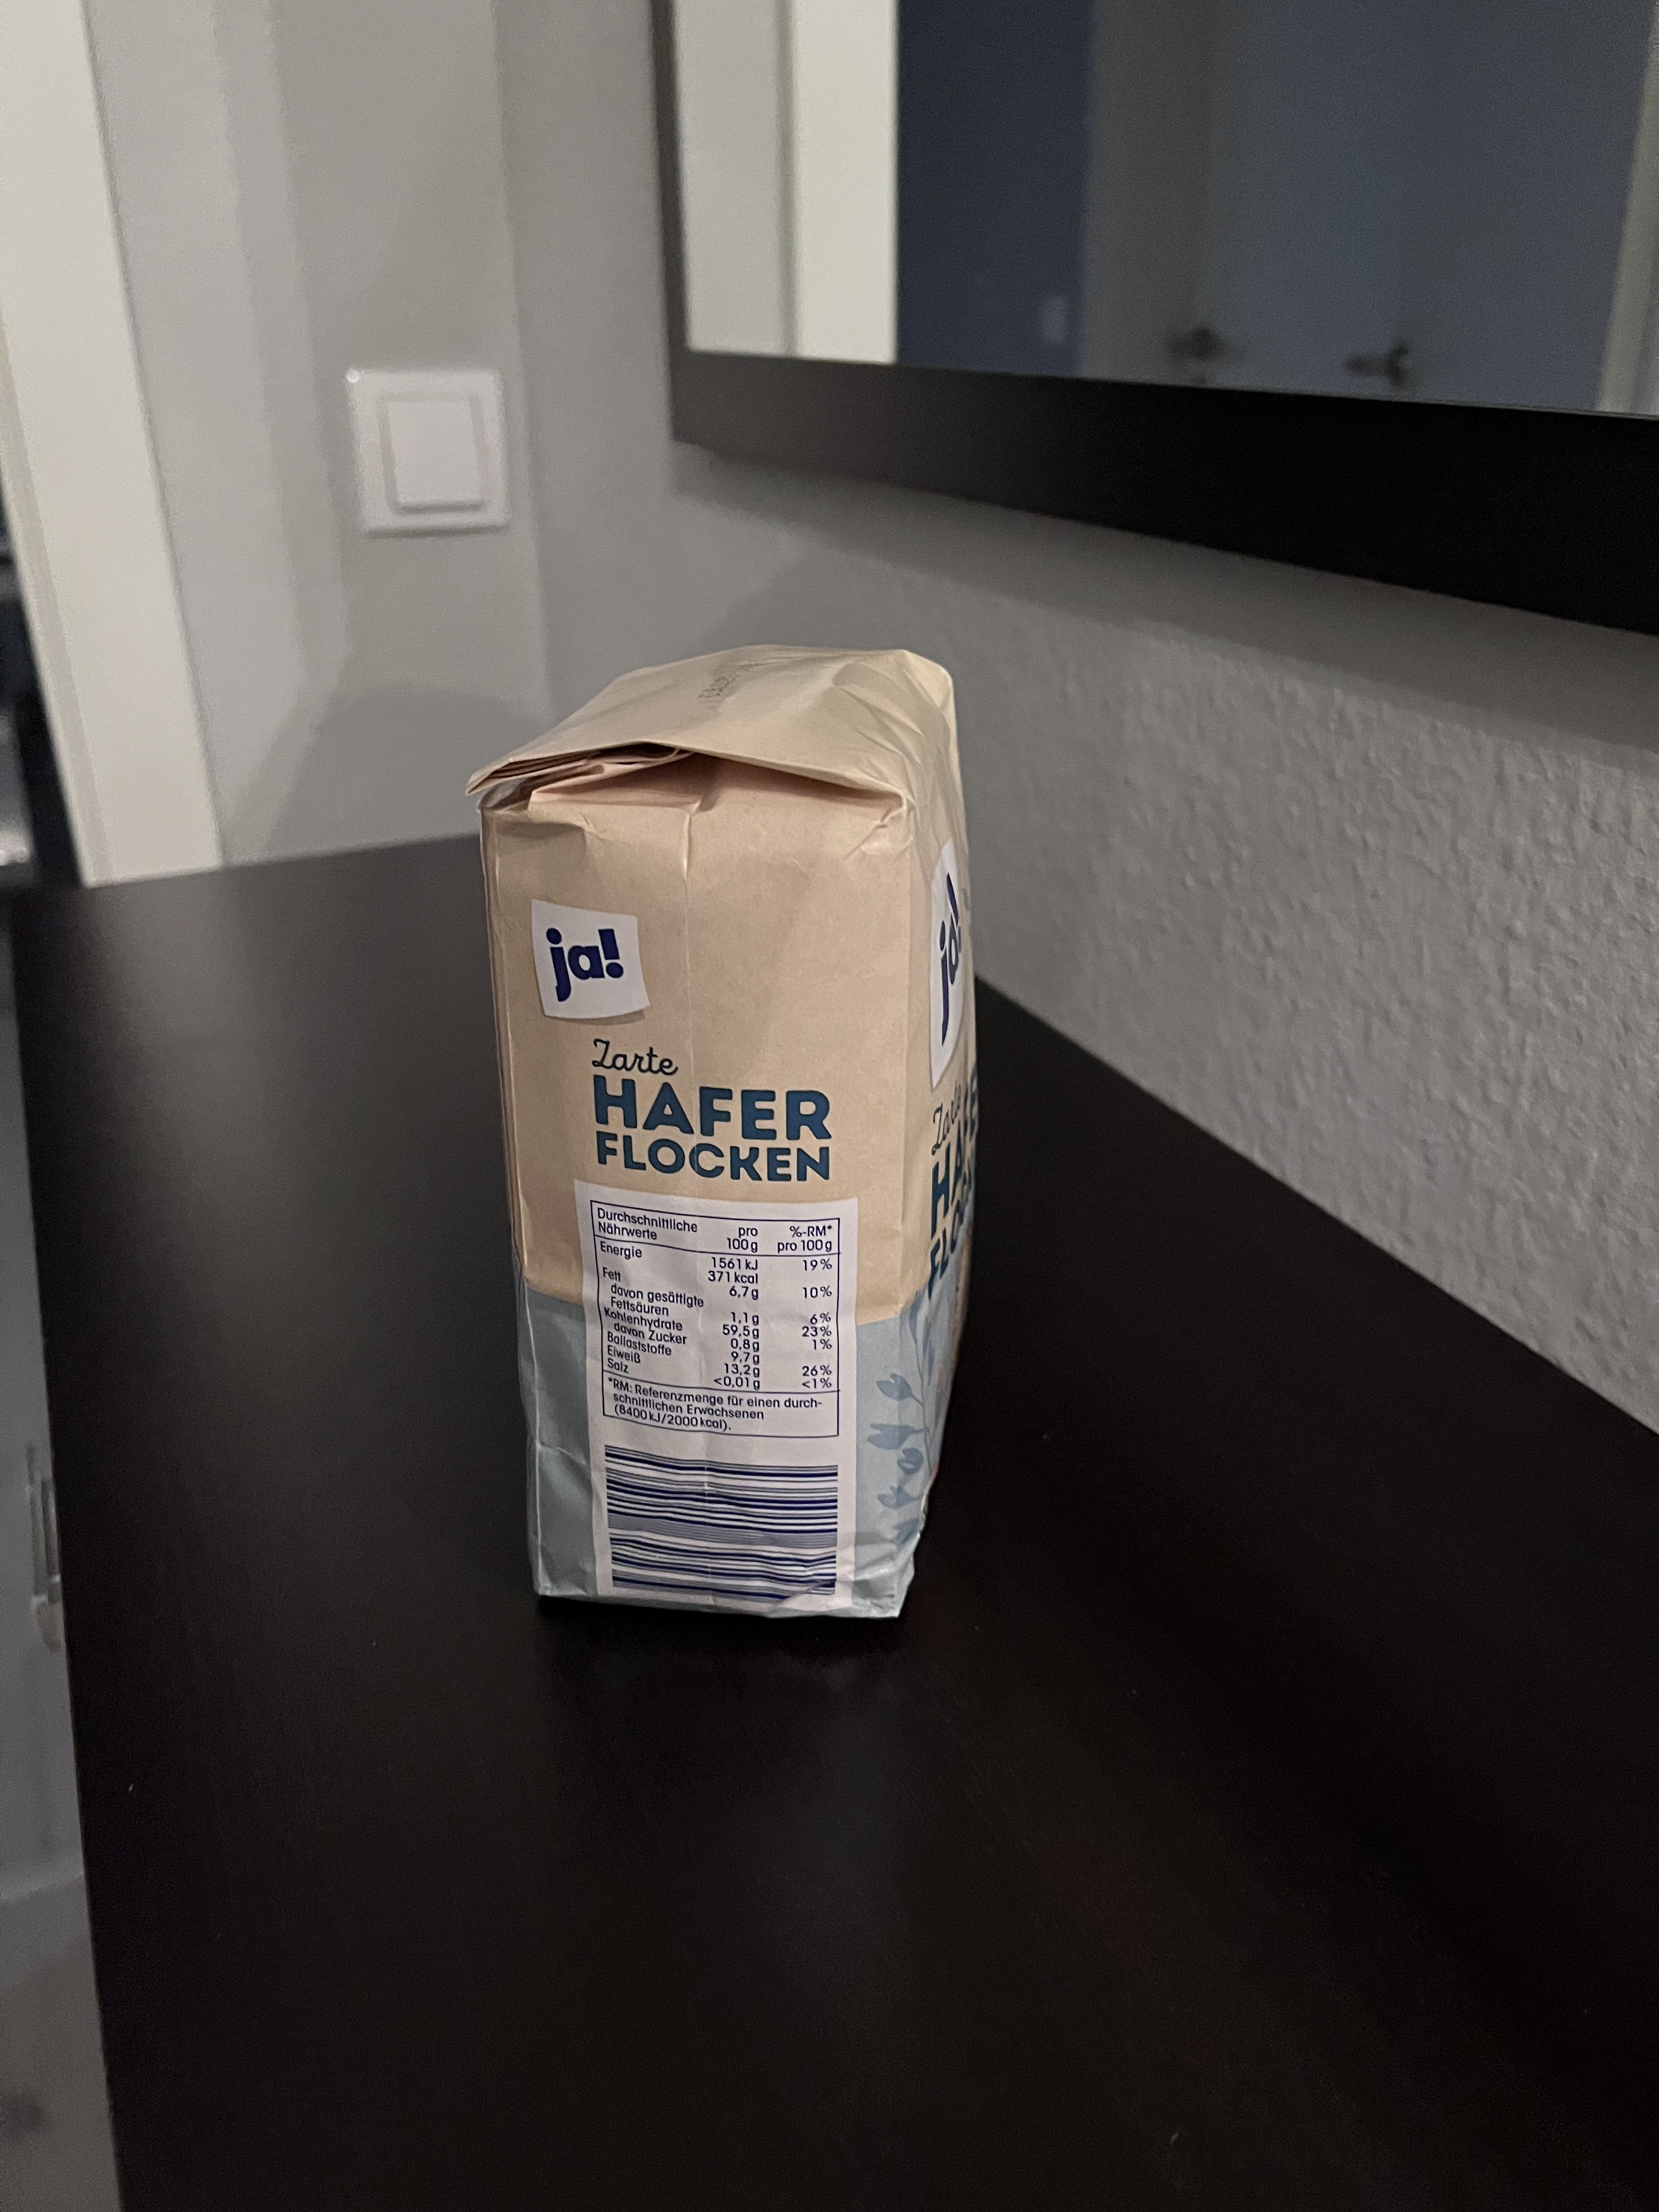haferflocken_ja: (465, 643, 993, 1623)
